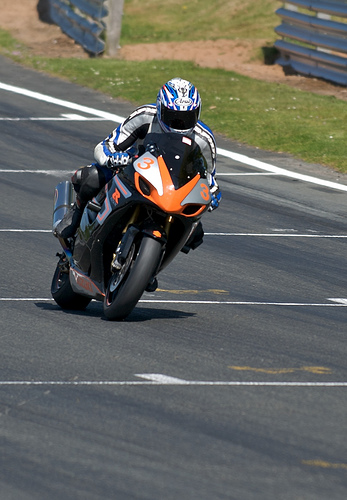helmet: (151, 81, 204, 122)
